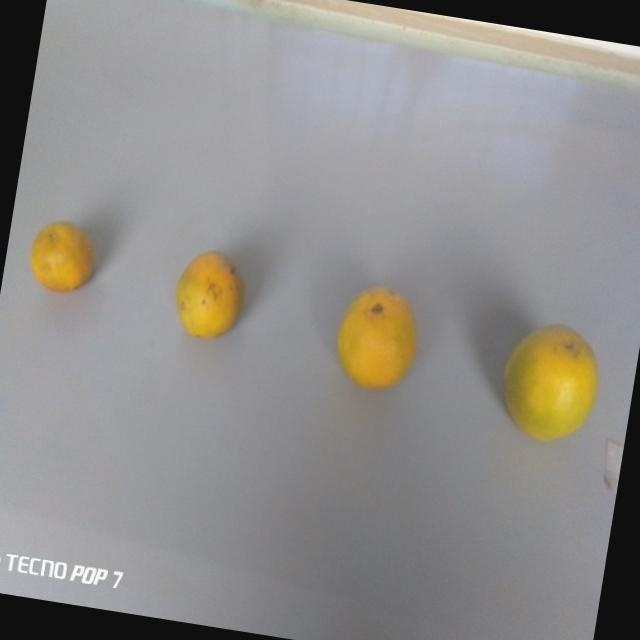agrume: (489, 308, 616, 467), (330, 275, 427, 401), (163, 241, 256, 355), (22, 202, 99, 306)
